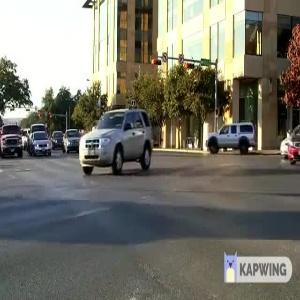suv: (77, 100, 158, 178), (198, 115, 263, 157)
